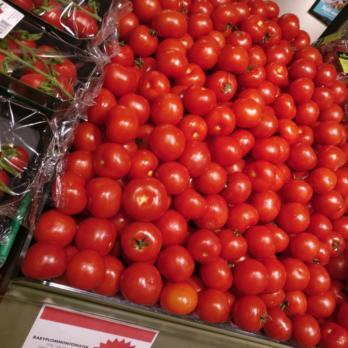Tomato: (116, 0, 346, 348)
